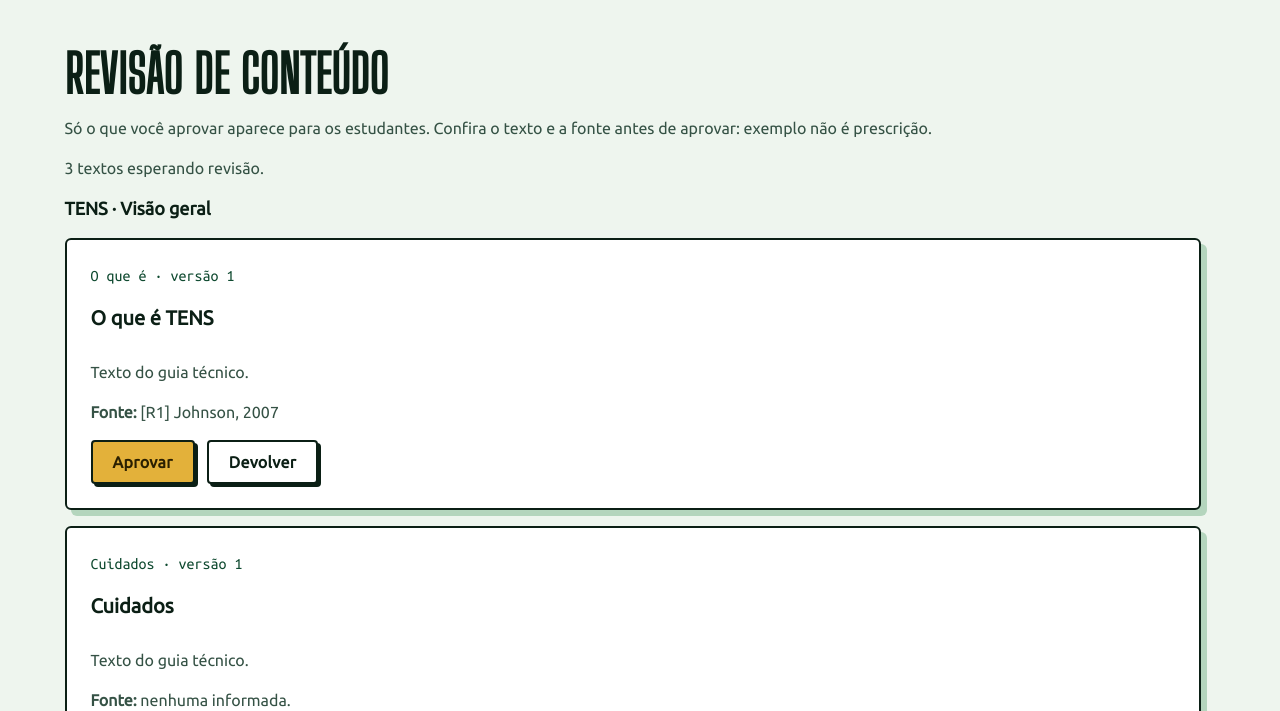
deveAprovarDeixandoOResultadoNoLugarDosBotoes
What coordinates should you click on to do the following:
click the button with aria-label "Aprovar O que é TENS"
I would click on:
 (143, 462)
Its box is 90,440 -> 195,484.
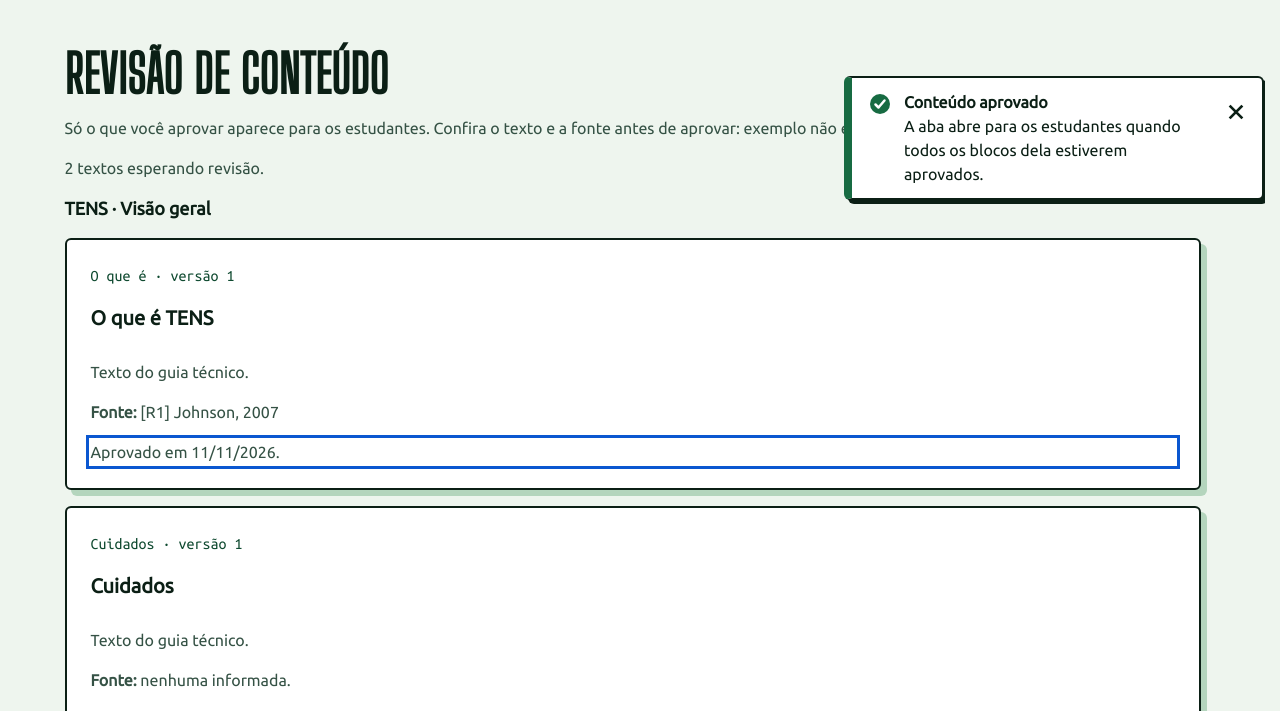
Result: the text "Conteúdo aprovado" is shown at 904,93 -> 1048,111
Result: the text "2 textos esperando revisão." is shown at 64,159 -> 264,177
